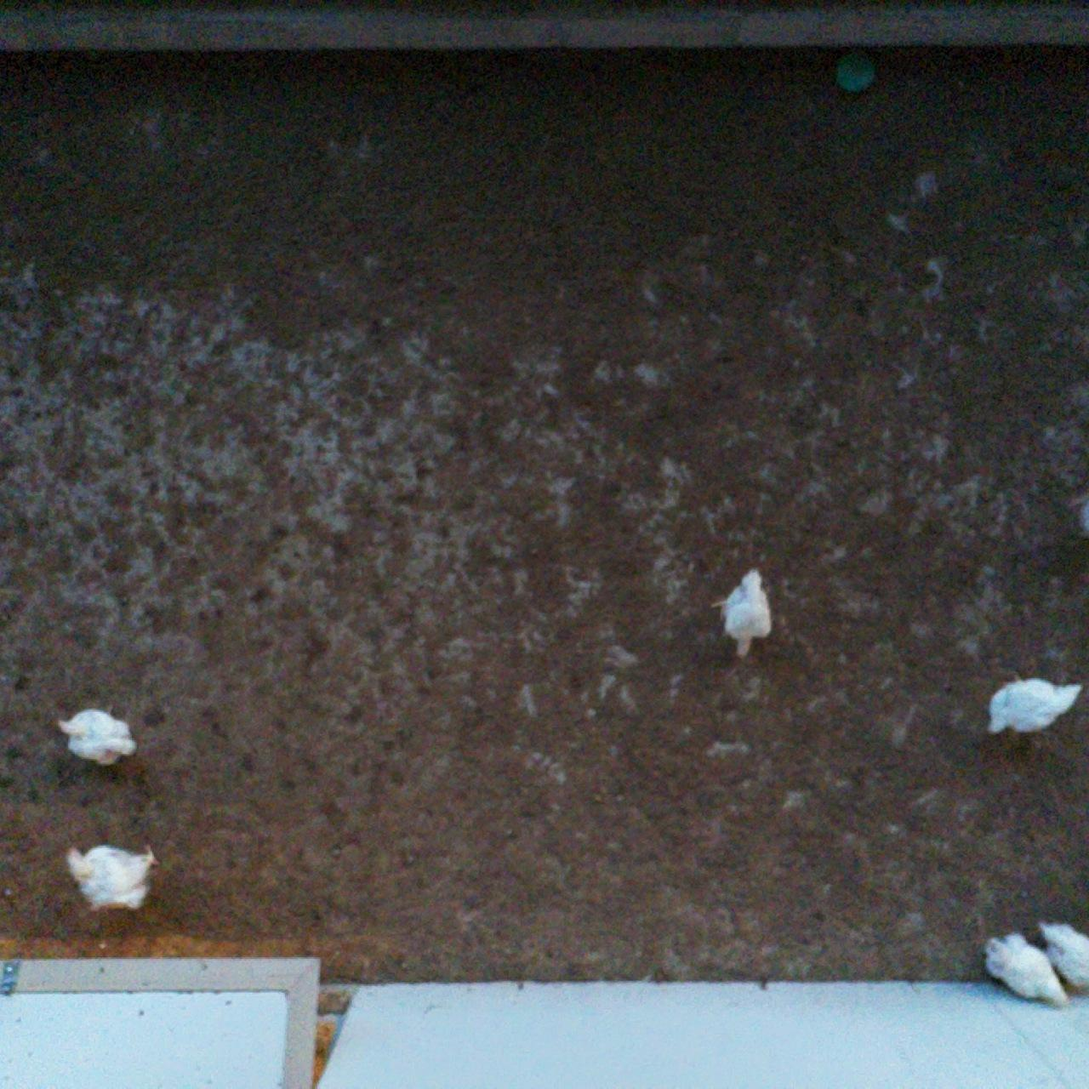chicken: (980, 665, 1084, 749), (60, 830, 161, 914), (979, 927, 1075, 1014), (707, 565, 777, 668), (52, 701, 144, 772), (1036, 915, 1089, 995)
